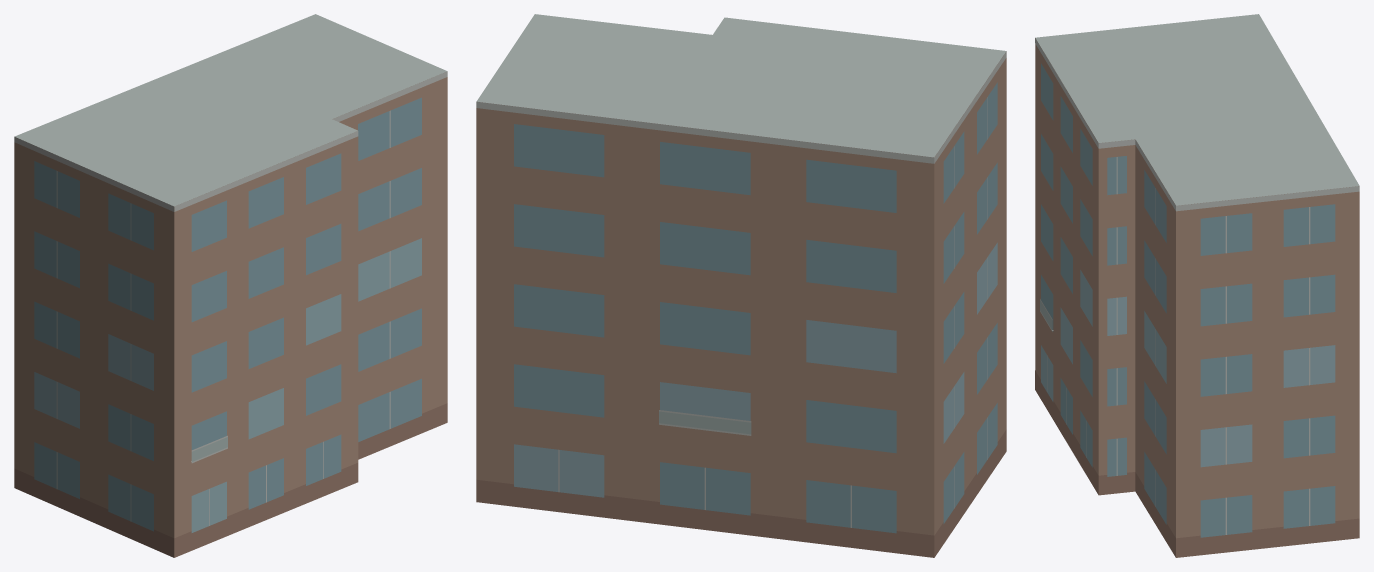
The model's file is survey-upis-32557053.glb.
3 views of the same model, side by side, from view 1: azimuth 30°, elevation 25°; view 2: azimuth 150°, elevation 25°; view 3: azimuth 270°, elevation 25° (orthographic). The views are drawn at different scales.
Visible parts, largest first — view 1: survey-upis-32557053.tmp; view 2: survey-upis-32557053.tmp; view 3: survey-upis-32557053.tmp.
Part boxes in pixels (bbox=[...]): survey-upis-32557053.tmp: bbox=[14, 14, 447, 557]; survey-upis-32557053.tmp: bbox=[476, 14, 1006, 557]; survey-upis-32557053.tmp: bbox=[1035, 14, 1359, 557].
Size of the model in its own units: 17.93 by 15.35 by 12.83.
